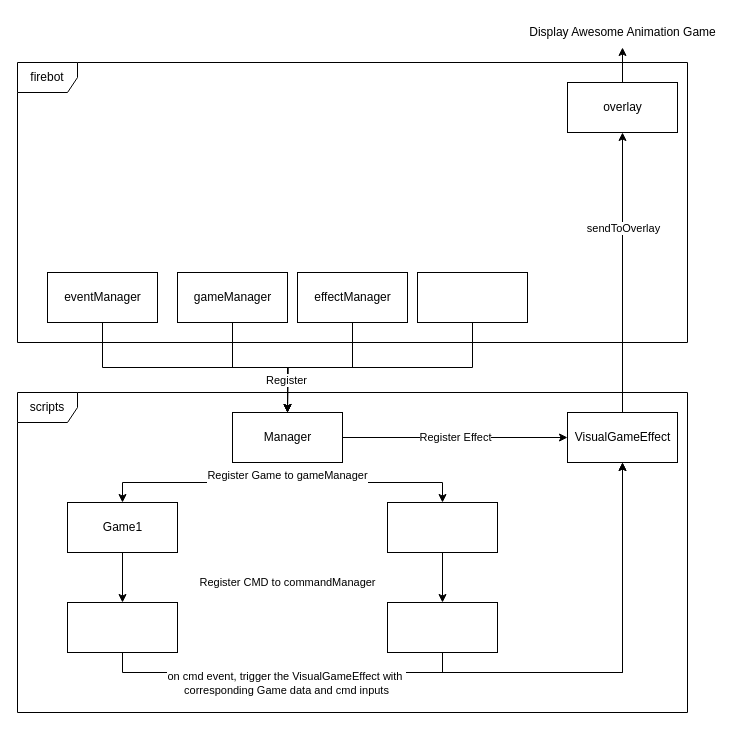
The diagram is 745 pixels wide and 730 high, and some of its shapes have lost their labels. The centre of each missing label's shape, as x and y in pixels:
"cmdGame1" belongs at point (122, 627).
"cmdGame2" belongs at point (442, 627).
"commandManager" belongs at point (472, 297).
"Game2" belongs at point (442, 527).
